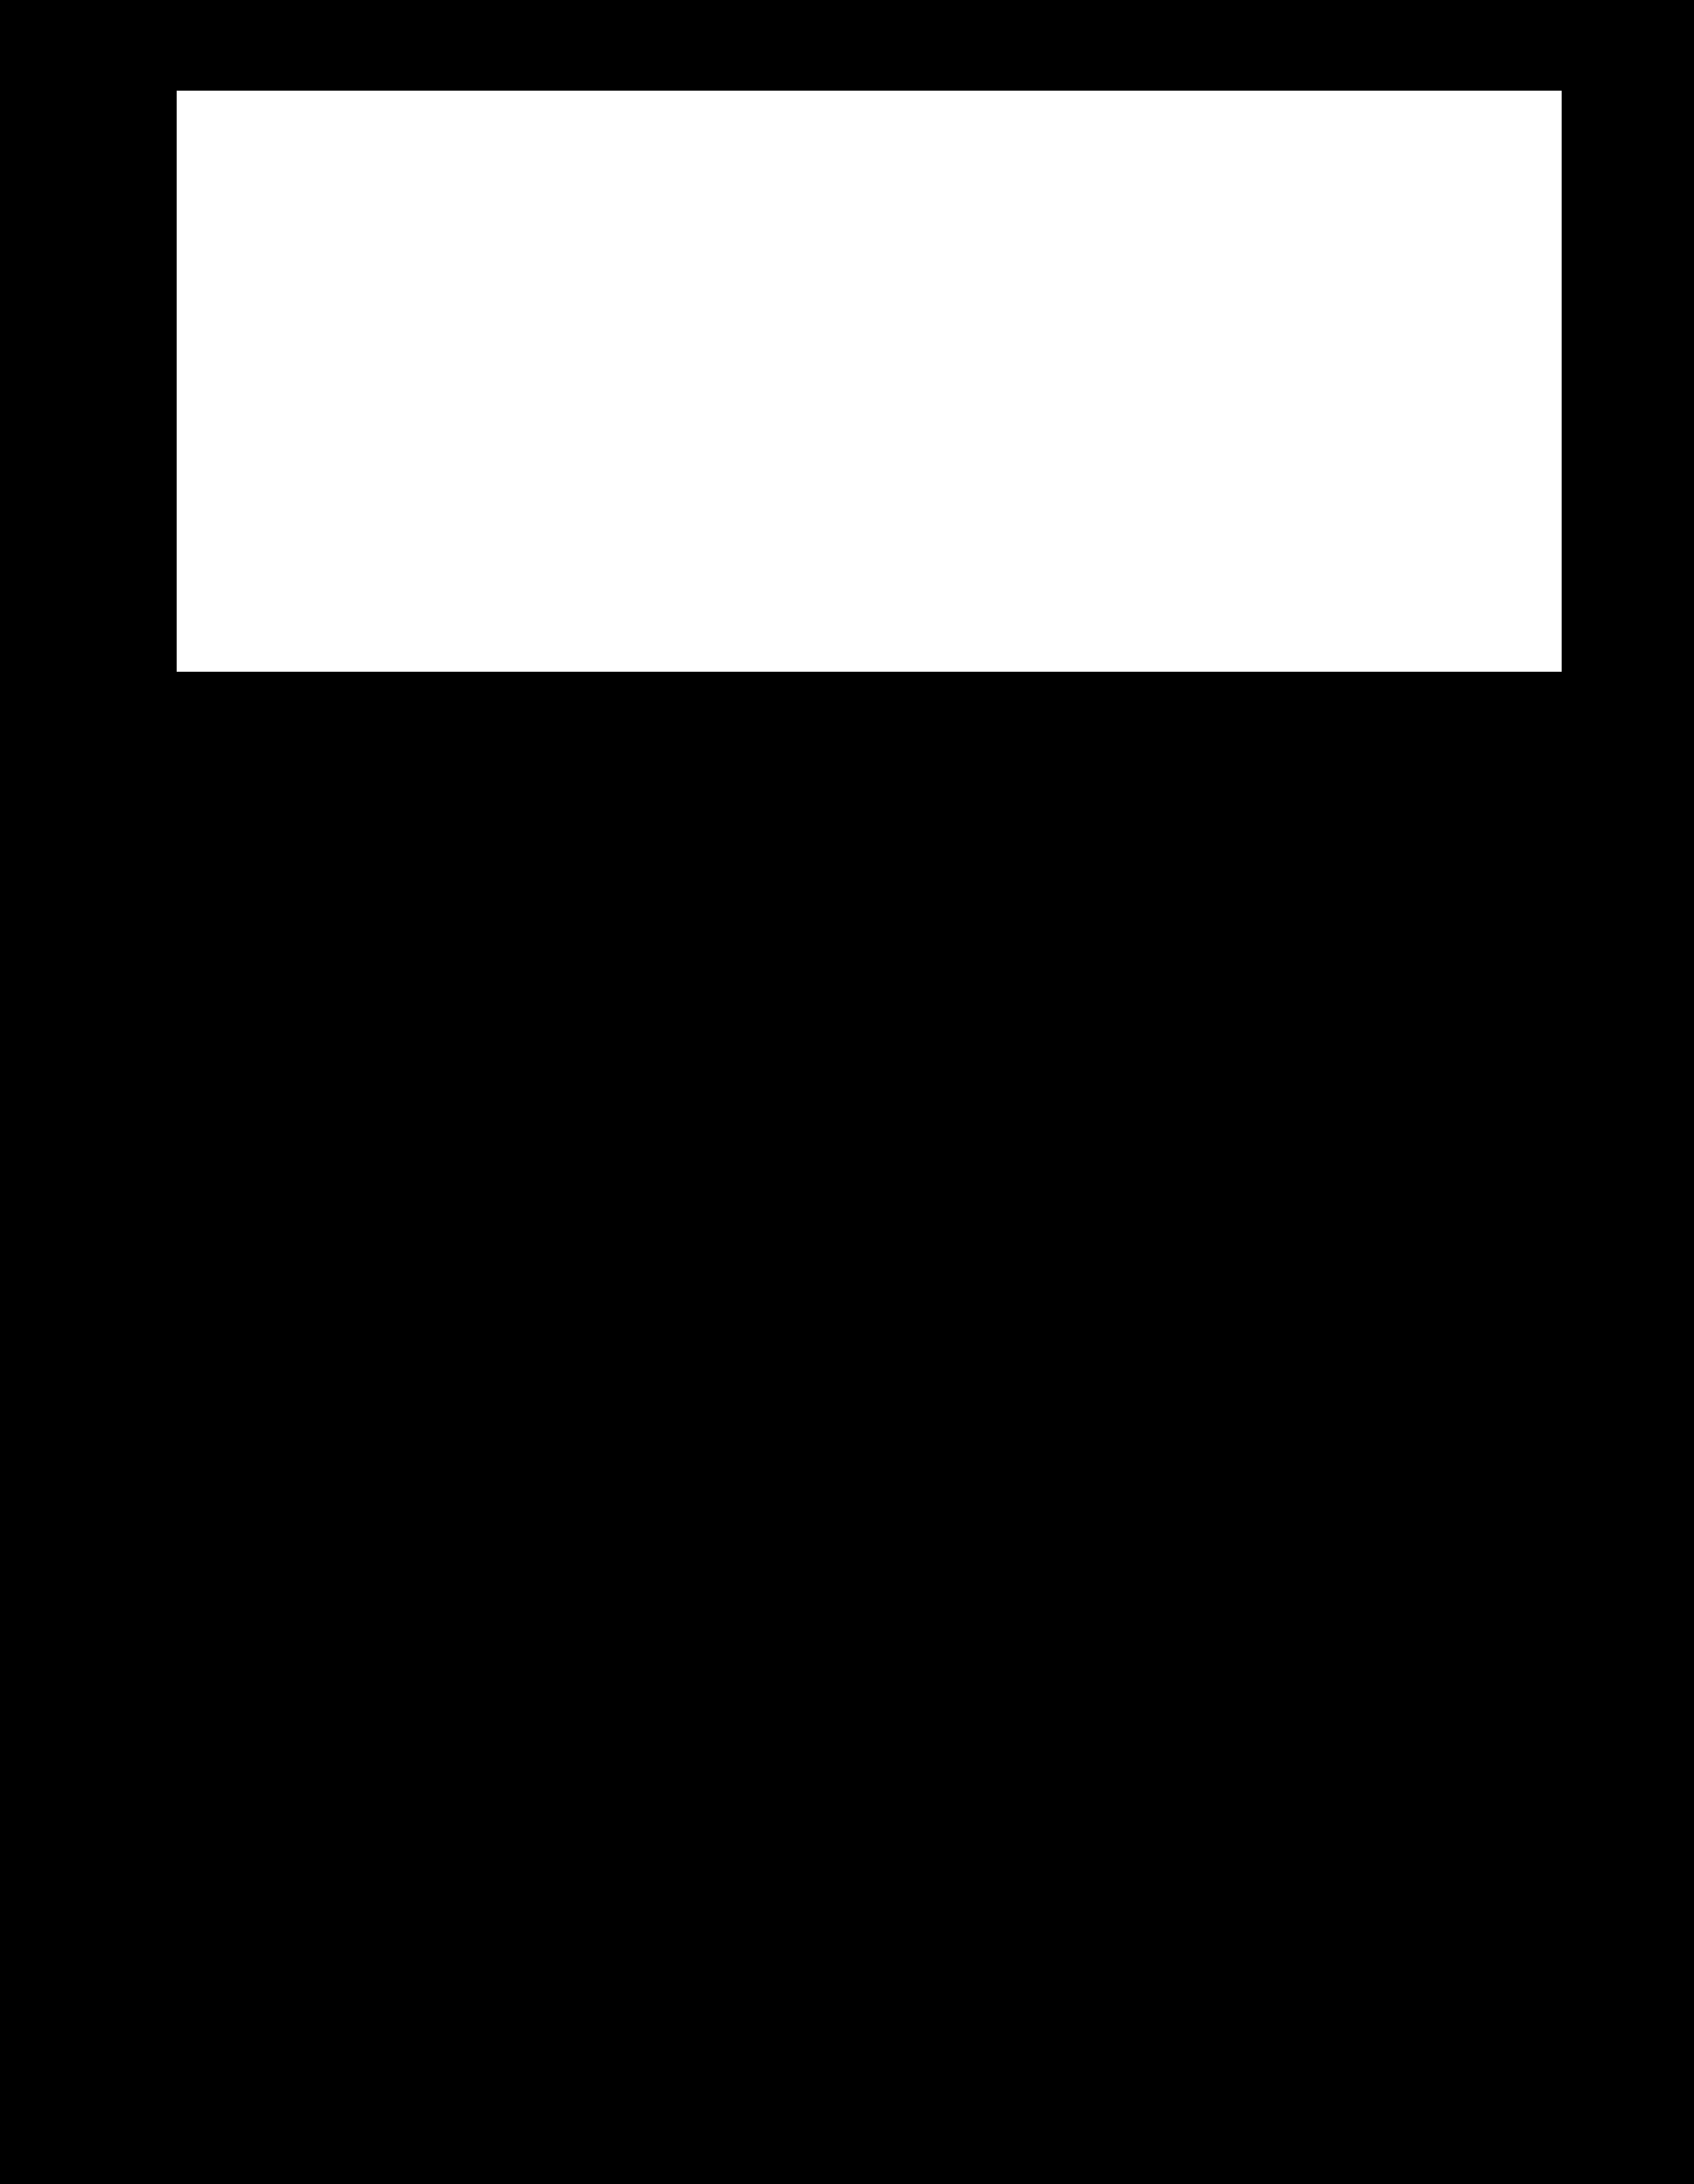table: (177, 90, 1561, 672)
